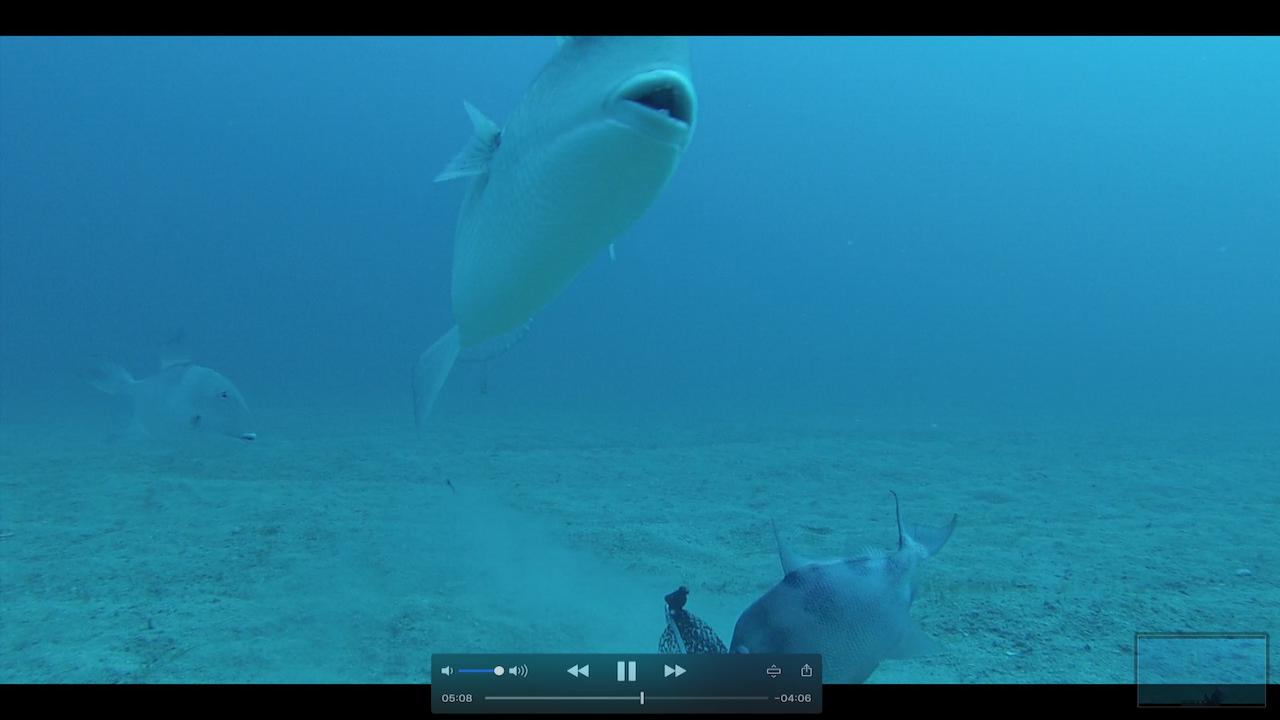balistes: (388, 36, 701, 441), (79, 338, 257, 458)
